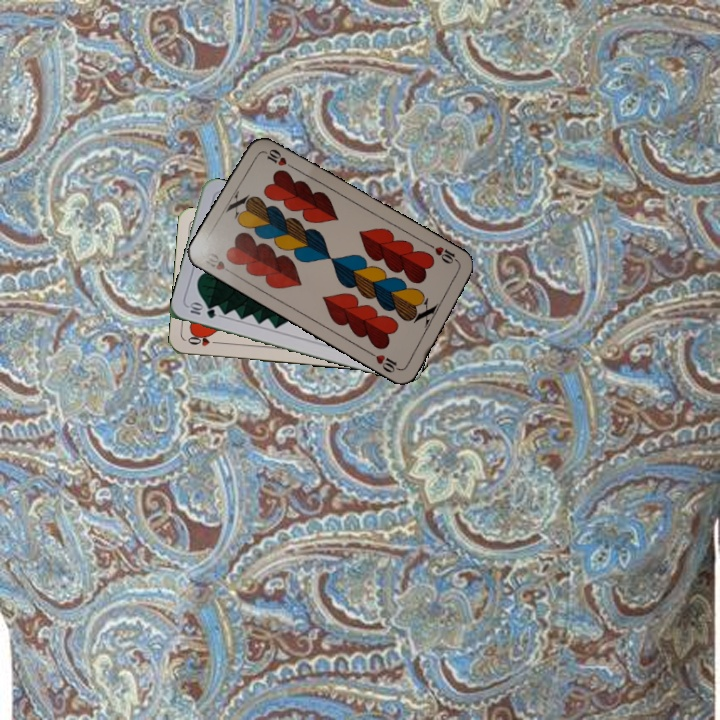G10: (185, 300, 218, 321)
H10: (199, 249, 237, 277), (425, 240, 462, 267)
HO: (184, 332, 224, 349)
